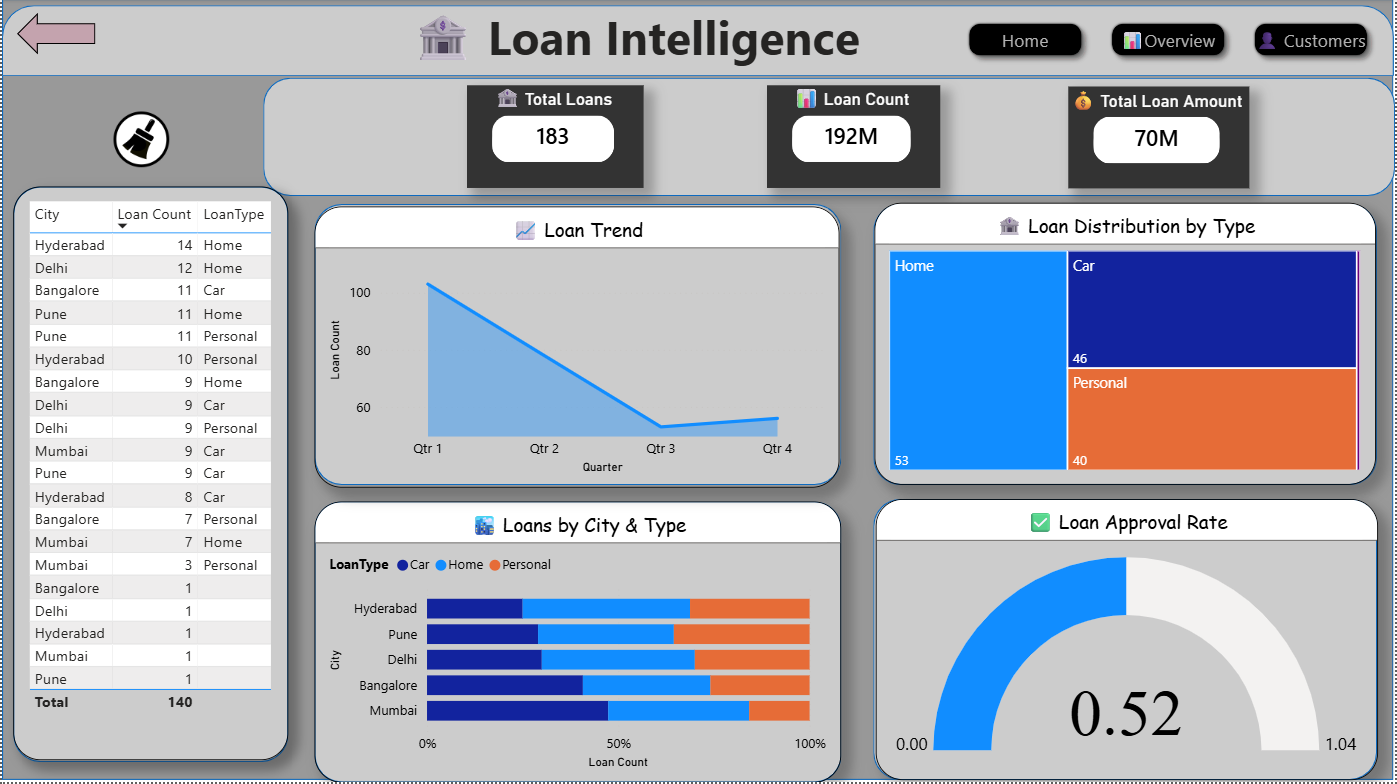

The page's visual inventory and layout, read from the dashboard file:
{"tool":"powerbi","page":{"name":" 🏦 Loans ","canvas":[1280,720],"ordinal":3},"visuals":[{"type":"shape","box":[0,0,1278.6,717.6],"z":0},{"type":"shape","box":[0,5.8,1279.1,65.1],"z":1000},{"type":"shape","box":[240,71.8,1040,108.7],"z":2000},{"type":"shape","box":[10.7,172.7,252.9,528.9],"z":3000},{"type":"textbox","box":[371.3,0,535.7,71],"z":4000},{"type":"cardVisual","title":"🏦 Total Loans","fields":{"Data":["BankData.Total Customers"]},"box":[427.2,79.6,162.4,94.2],"z":5000},{"type":"cardVisual","title":"💰 Total Loan Amount","fields":{"Data":["BankData.Total Loan Amount"]},"box":[980.1,80.3,166,93.7],"z":6000},{"type":"cardVisual","title":"📊 Loan Count","fields":{"Data":["Sum(BankData.LoanAmount)"]},"box":[703.4,79.6,159.2,94.2],"z":7000},{"type":"tableEx","title":"Customers by Age Group","fields":{"Values":["BankData.City","BankData.Loan Count","BankData.LoanType"]},"box":[10.7,172.7,252.9,527.1],"z":8000},{"type":"shape","box":[286.7,188.8,484.4,258.2],"z":9000},{"type":"shape","box":[286.7,461.2,484.4,258.2],"z":10000},{"type":"shape","box":[800.8,459.7,462.9,258.3],"z":11000},{"type":"shape","box":[800.8,188.4,462.9,258.3],"z":12000},{"type":"treemap","title":"🏦 Loan Distribution by Type","fields":{"Group":["BankData.LoanType"],"Values":["BankData.Loan Count"]},"box":[801.6,186.9,460.7,259],"z":13000},{"type":"gauge","title":"✅ Loan Approval Rate","fields":{"Y":["BankData.Approval Rate"]},"box":[802.4,459.7,461.3,258.3],"z":14000},{"type":"hundredPercentStackedBarChart","title":"🏙️ Loans by City & Type","fields":{"Category":["BankData.City"],"Y":["BankData.Loan Count"],"Series":["BankData.LoanType"]},"box":[286.7,461.2,484.4,258.2],"z":15000},{"type":"areaChart","title":"📈 Loan Trend","fields":{"Y":["BankData.Loan Count"],"Category":["BankData.Date.Variation.Date Hierarchy.Quarter"]},"box":[286.7,190.5,482.6,258.2],"z":16000},{"type":"shape","box":[14,12.8,72.1,38.4],"z":17000},{"type":"actionButton","box":[14.8,13.1,72.1,39.3],"z":18000},{"type":"image","box":[86.9,103.3,82,50.8],"z":19000},{"type":"actionButton","box":[90.7,103.4,73.5,49.4],"z":20000},{"type":"pageNavigator","box":[879.9,13.8,384.8,47.1],"z":21000}]}

Visuals, with their boxes in screenshot pixels (x1, y1, x2, y2), scaled from the page's 1280x720 canvas onto the 1397x784 screenshot:
shape: detection(0, 0, 1395, 781)
shape: detection(0, 6, 1396, 77)
shape: detection(262, 78, 1396, 197)
shape: detection(12, 188, 288, 764)
textbox: detection(405, 0, 990, 77)
"🏦 Total Loans" cardVisual: detection(466, 87, 643, 189)
"💰 Total Loan Amount" cardVisual: detection(1070, 87, 1251, 189)
"📊 Loan Count" cardVisual: detection(768, 87, 941, 189)
"Customers by Age Group" tableEx: detection(12, 188, 288, 762)
shape: detection(313, 206, 842, 487)
shape: detection(313, 502, 842, 783)
shape: detection(874, 501, 1379, 782)
shape: detection(874, 205, 1379, 486)
"🏦 Loan Distribution by Type" treemap: detection(875, 204, 1378, 486)
"✅ Loan Approval Rate" gauge: detection(876, 501, 1379, 782)
"🏙️ Loans by City & Type" hundredPercentStackedBarChart: detection(313, 502, 842, 783)
"📈 Loan Trend" areaChart: detection(313, 207, 840, 489)
shape: detection(15, 14, 94, 56)
actionButton: detection(16, 14, 95, 57)
image: detection(95, 112, 184, 168)
actionButton: detection(99, 113, 179, 166)
pageNavigator: detection(960, 15, 1380, 66)
